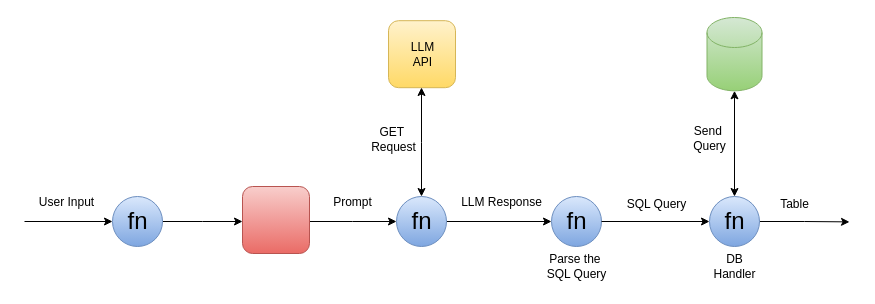
The diagram is 875 pixels wide and 304 high, and some of its shapes have lost their labels. Here are the shapes that lost their labels. From the top down, the centre of each, then its label:
[734,53]: Database
[276,220]: Prompt Template
